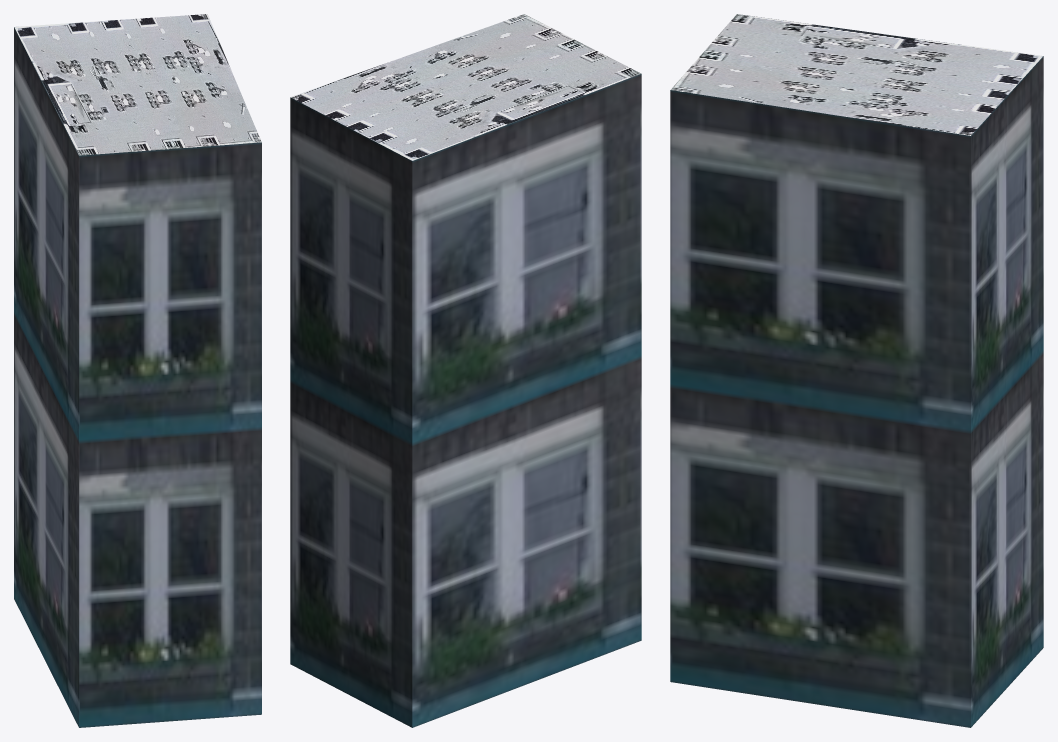
Rendered from ResTex__381.fbx.
3 views of the same model, side by side, from view 1: azimuth 30°, elevation 25°; view 2: azimuth 150°, elevation 25°; view 3: azimuth 270°, elevation 25° (orthographic). The views are drawn at different scales.
Parts seen in each view (by area): view 1: CityEngineMaterial_11_m, CityEngineMaterial_4_m; view 2: CityEngineMaterial_11_m, CityEngineMaterial_4_m; view 3: CityEngineMaterial_11_m, CityEngineMaterial_4_m.
Part boxes in pixels (box(x1,y1,x2,y2)): CityEngineMaterial_11_m: box(14, 27, 261, 727); CityEngineMaterial_4_m: box(14, 14, 261, 155); CityEngineMaterial_11_m: box(290, 74, 641, 727); CityEngineMaterial_4_m: box(290, 14, 641, 160); CityEngineMaterial_11_m: box(670, 56, 1043, 727); CityEngineMaterial_4_m: box(671, 14, 1042, 135).
Size of the model in its own units: 2.65 by 6 by 3.43.
Materials: 2 (2 with a texture image).
